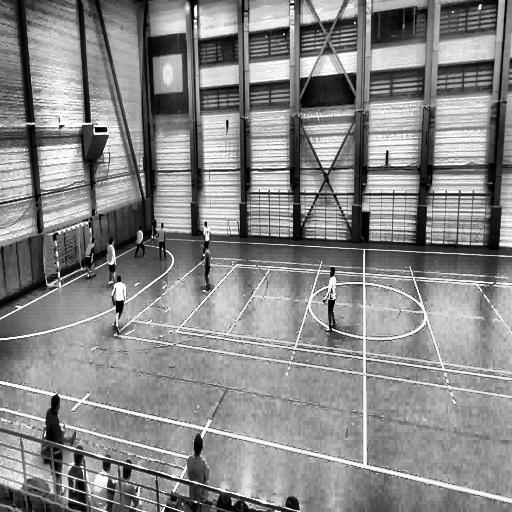ball: (150, 234, 155, 242)
player: (42, 395, 73, 499), (322, 266, 337, 332), (112, 272, 126, 334), (105, 235, 118, 286), (200, 220, 213, 262), (201, 242, 211, 289), (84, 238, 94, 278), (158, 222, 168, 258), (135, 226, 145, 258), (150, 216, 158, 242)
